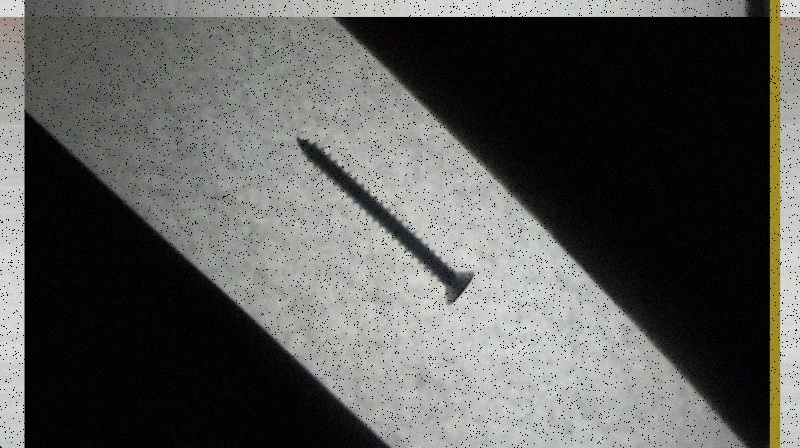S002: (293, 132, 478, 306)
